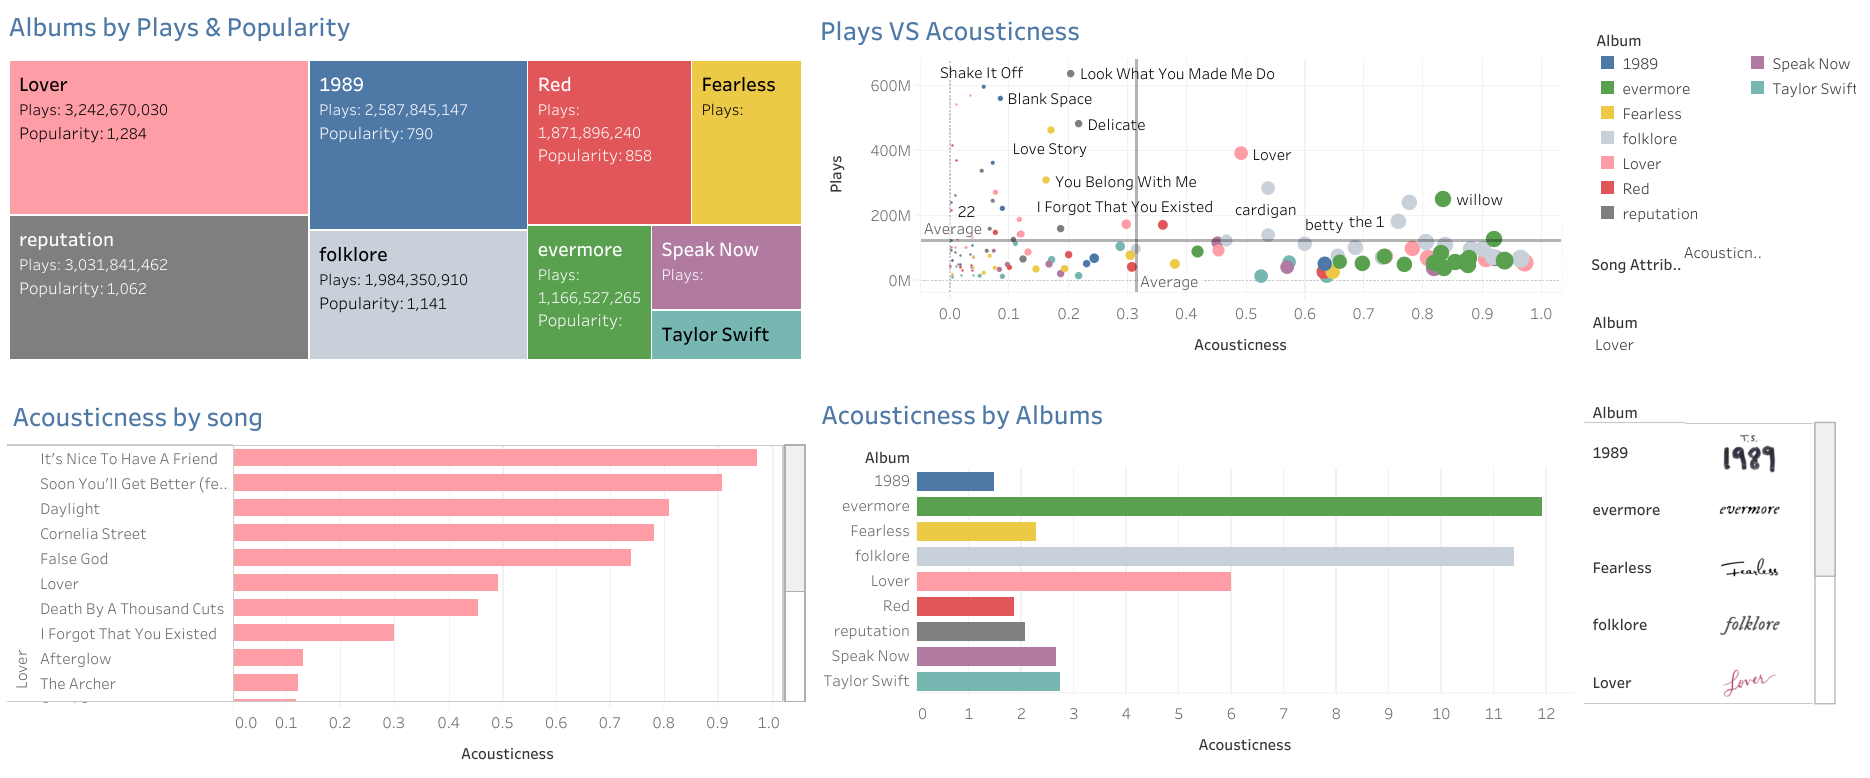

This screenshot's page, from the dashboard's own definition file:
{"tool":"tableau","page":{"name":"Taylor Swift Songs Dashboard","canvas":[1000,1000],"units":"permille","ordinal":0},"visuals":[{"type":"worksheet","title":"Albums by Play & Popularity","mark":"Automatic","box":[1.8,2.4,429.2,467.7]},{"type":"worksheet","title":"Plays vs Song Attributes","mark":"Circle","rows":["plays"],"cols":["Calculation_596445504707907590"],"box":[435.3,7,398.8,460.6]},{"type":"legend","title":"Albums by Play & Popularity","param":"[federated.0lnl6i81m2p51m1bfdxo01ernjec].[none:album:nk]","box":[852.3,34.1,139.8,264.4]},{"type":"parameter","param":"[Parameters].[Parameter 1]","box":[850.5,307.9,92.4,59.9]},{"type":"filter","title":"Attributes by Song","param":"[federated.0lnl6i81m2p51m1bfdxo01ernjec].[none:album:nk]","box":[851.1,396,90,67]},{"type":"worksheet","title":"Album's Images","mark":"Shape","rows":["album"],"box":[846.8,492.4,134.3,412.5]},{"type":"worksheet","title":"Attributes by Album","mark":"Automatic","rows":["album"],"cols":["Calculation_596445504707907590"],"box":[436.5,499.4,404.3,480.6]},{"type":"worksheet","title":"Attributes by Song","mark":"Automatic","rows":["album","name"],"cols":["Calculation_596445504707907590"],"box":[4.3,502.9,426.8,491.2]}]}

Visuals, with their boxes on the dashboard's canvas, which has no fixed pixel size, in thousandths of its width and height (x1, y1, x2, y2). These are canvas units, not pixel positions in the 1870x778 screenshot, which may show the page scaled, cropped or inside an application window:
"Albums by Play & Popularity" worksheet: bbox=(2, 2, 431, 470)
"Plays vs Song Attributes" worksheet (Circle marks): bbox=(435, 7, 834, 468)
"Albums by Play & Popularity" legend: bbox=(852, 34, 992, 298)
parameter: bbox=(850, 308, 943, 368)
"Attributes by Song" filter: bbox=(851, 396, 941, 463)
"Album's Images" worksheet (Shape marks): bbox=(847, 492, 981, 905)
"Attributes by Album" worksheet: bbox=(436, 499, 841, 980)
"Attributes by Song" worksheet: bbox=(4, 503, 431, 994)
